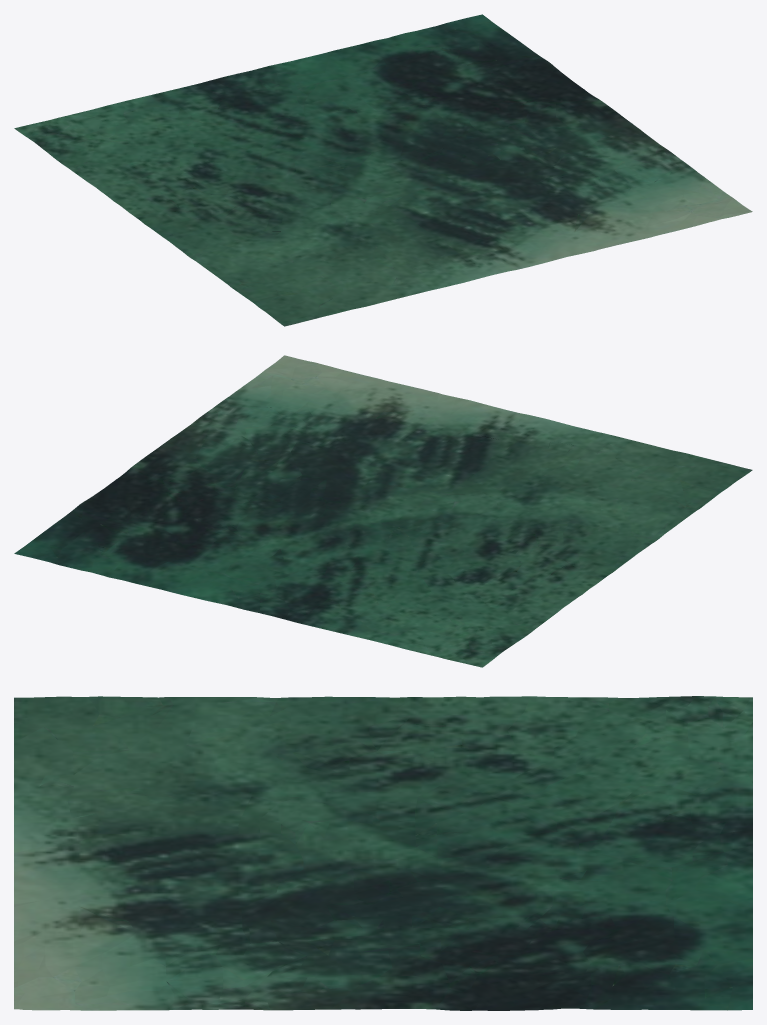
The picture shows the model from 3 angles, top to bottom: view 1: azimuth 30°, elevation 25°; view 2: azimuth 150°, elevation 25°; view 3: azimuth 270°, elevation 25°; orthographic projection. The views are drawn at different scales.
Bounding box in the file's own units: 104 × 0.5376 × 104.
Materials: 3 (3 with a texture image).
